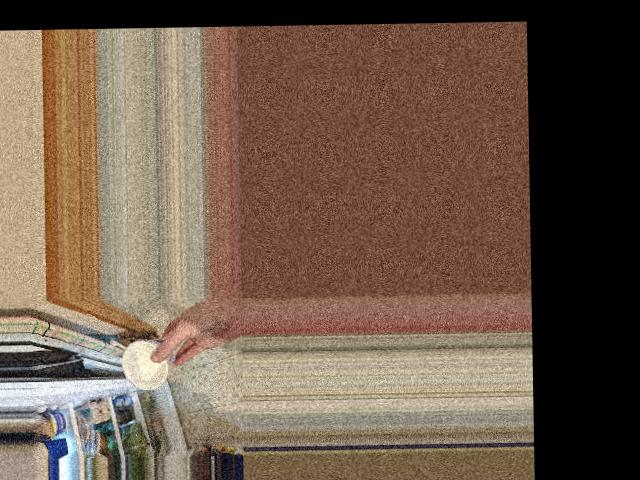cotage: (118, 338, 178, 385)
